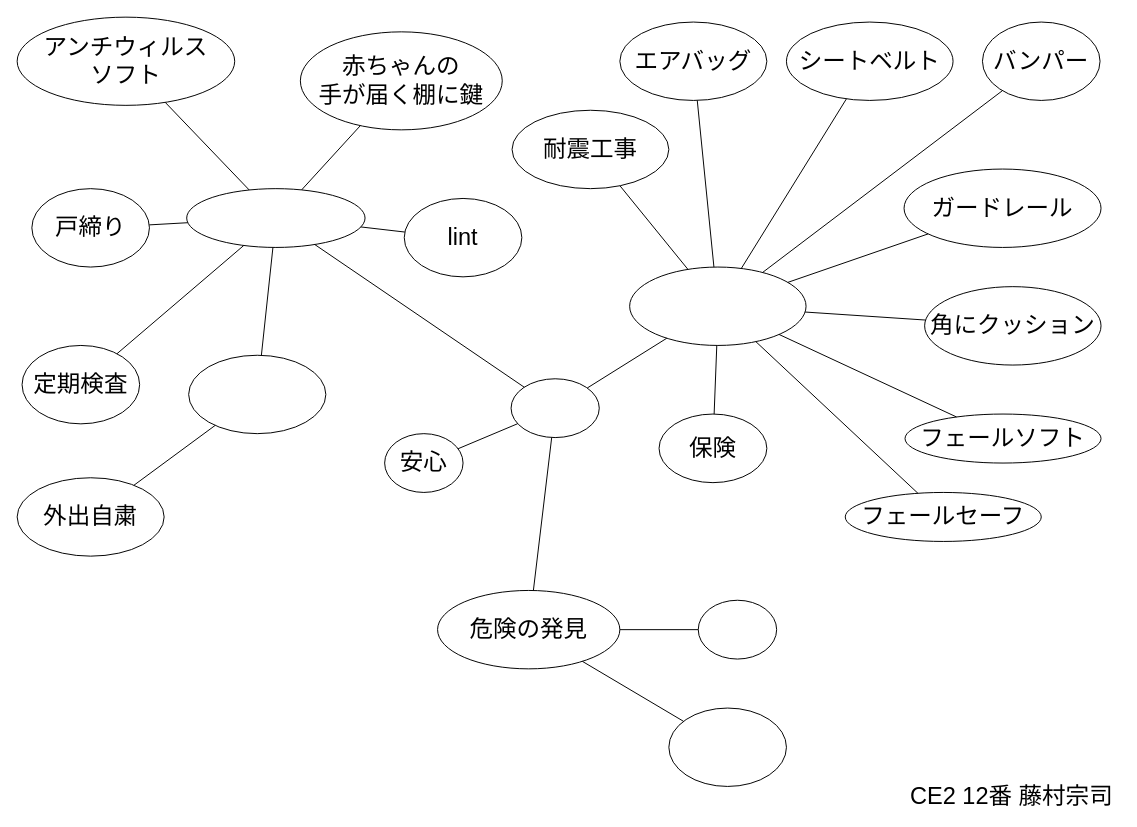
Some shapes in this 1137 by 827 pixel diagram are drawn without their labels. The centre of each missing label's shape, as x and y in pixels:
"センサー" belongs at (727,746).
"リスクの低減" belongs at (717,305).
"リスク回避" belongs at (257,394).
"ログ" belongs at (737,629).
"危険の予防" belongs at (275,217).
"安全" belongs at (554,408).
